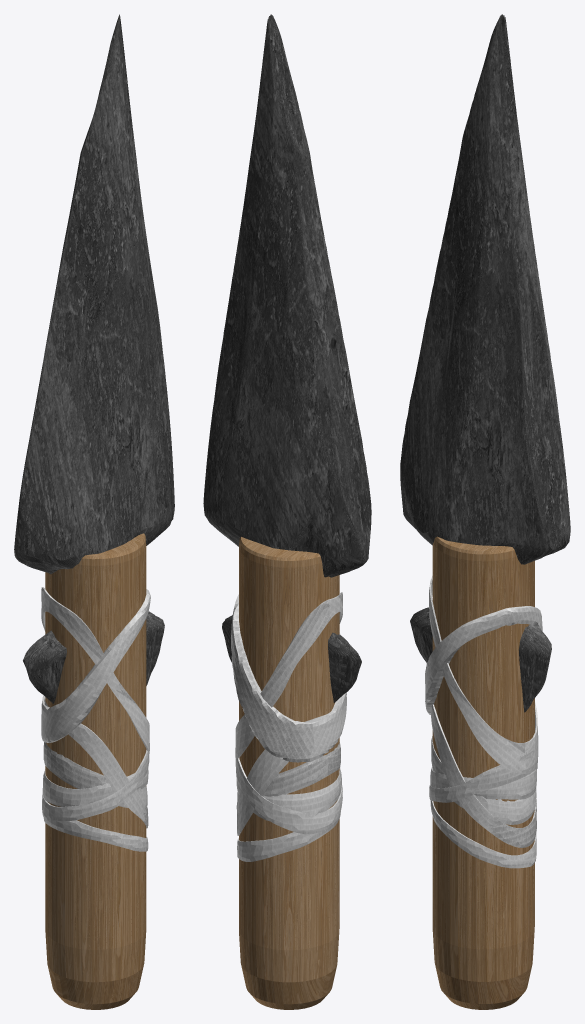
File: Stone knife.fbx
3 views of the same model, side by side, from view 1: azimuth 30°, elevation 25°; view 2: azimuth 150°, elevation 25°; view 3: azimuth 330°, elevation 25° (orthographic).
Visible parts, largest first — view 1: Icosphere, Cylinder, Mesh.001, Mesh.002, Mesh.007, Mesh.005, Mesh.004, Mesh.003, Mesh.006; view 2: Icosphere, Cylinder, Mesh.001, Mesh.002, Mesh.005, Mesh.004, Mesh.007, Mesh.006, Mesh.003; view 3: Icosphere, Cylinder, Mesh.002, Mesh.001, Mesh.007, Mesh.005, Mesh.006, Mesh.004, Mesh.003.
Boxes of the visible parts, x1=… form: Icosphere: x1=14, y1=14, x2=174, y2=703; Cylinder: x1=45, y1=533, x2=146, y2=1009; Mesh.001: x1=41, y1=589, x2=150, y2=742; Mesh.002: x1=41, y1=587, x2=149, y2=753; Mesh.007: x1=44, y1=697, x2=148, y2=828; Mesh.005: x1=42, y1=749, x2=149, y2=820; Mesh.004: x1=43, y1=742, x2=147, y2=807; Mesh.003: x1=42, y1=768, x2=148, y2=806; Mesh.006: x1=43, y1=818, x2=148, y2=851; Icosphere: x1=203, y1=14, x2=371, y2=702; Cylinder: x1=239, y1=537, x2=339, y2=1009; Mesh.001: x1=231, y1=594, x2=346, y2=762; Mesh.002: x1=235, y1=592, x2=342, y2=759; Mesh.005: x1=235, y1=758, x2=342, y2=834; Mesh.004: x1=237, y1=742, x2=340, y2=800; Mesh.007: x1=236, y1=713, x2=328, y2=835; Mesh.006: x1=237, y1=809, x2=341, y2=861; Mesh.003: x1=236, y1=767, x2=341, y2=821; Icosphere: x1=400, y1=14, x2=570, y2=712; Cylinder: x1=432, y1=536, x2=534, y2=1009; Mesh.002: x1=429, y1=576, x2=538, y2=773; Mesh.001: x1=425, y1=606, x2=542, y2=714; Mesh.007: x1=430, y1=704, x2=536, y2=847; Mesh.005: x1=429, y1=747, x2=537, y2=802; Mesh.006: x1=430, y1=801, x2=536, y2=868; Mesh.004: x1=431, y1=736, x2=536, y2=824; Mesh.003: x1=430, y1=766, x2=536, y2=799.
Size of the model in its own units: 111 by 638 by 69.12.
3 materials, 3 textured.
